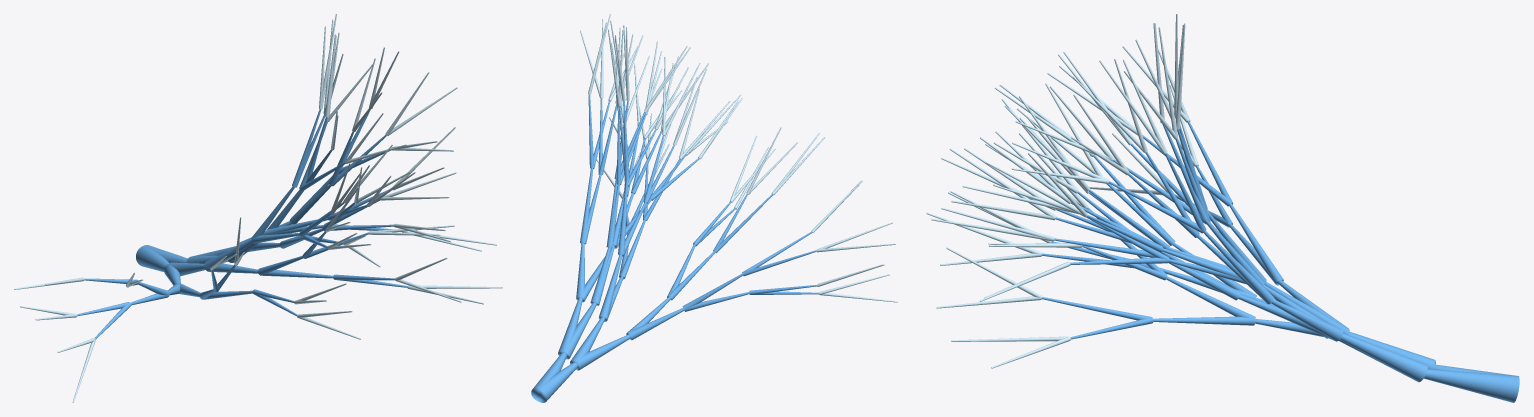
Rendered from crystal-growth.glb.
3 renders of one model, left to right at view 1: azimuth 30°, elevation 25°; view 2: azimuth 150°, elevation 25°; view 3: azimuth 270°, elevation 25°, orthographic. The views are drawn at different scales.
Visible parts, largest first — view 1: Procedural__Crystal_Base, Procedural__Crystal_Tips; view 2: Procedural__Crystal_Base, Procedural__Crystal_Tips; view 3: Procedural__Crystal_Base, Procedural__Crystal_Tips.
Part boxes in pixels (x1,y1,x2,y2): Procedural__Crystal_Base: [77, 109, 407, 339]; Procedural__Crystal_Tips: [14, 14, 502, 402]; Procedural__Crystal_Base: [531, 94, 819, 402]; Procedural__Crystal_Tips: [580, 14, 897, 302]; Procedural__Crystal_Base: [1041, 120, 1519, 402]; Procedural__Crystal_Tips: [926, 14, 1198, 368].
Bounding box in the file's own units: 6.13 × 4.72 × 6.05.
